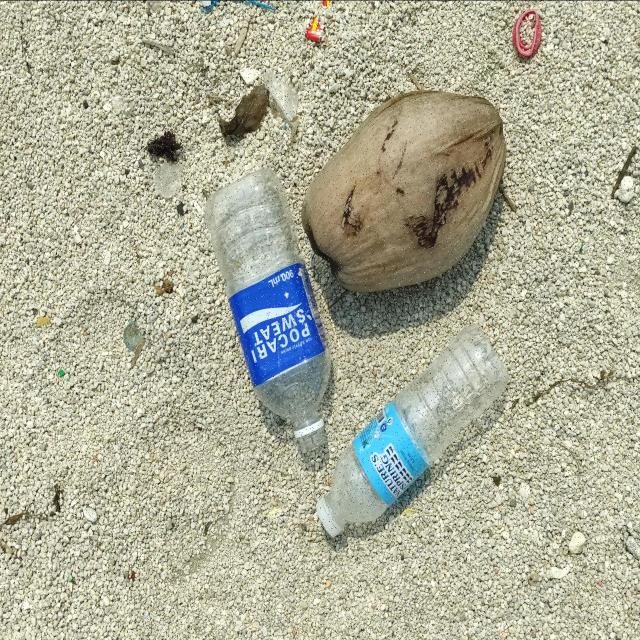plastic_waste: (317, 327, 511, 541), (205, 166, 332, 454)
